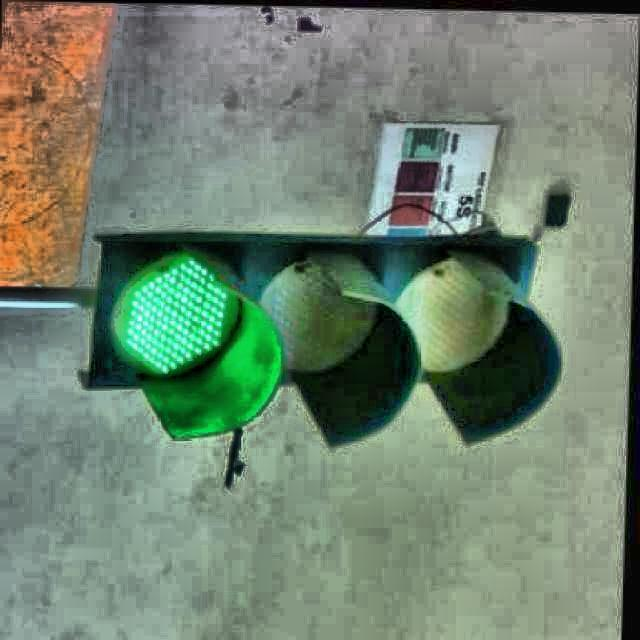green: (99, 229, 538, 419)
